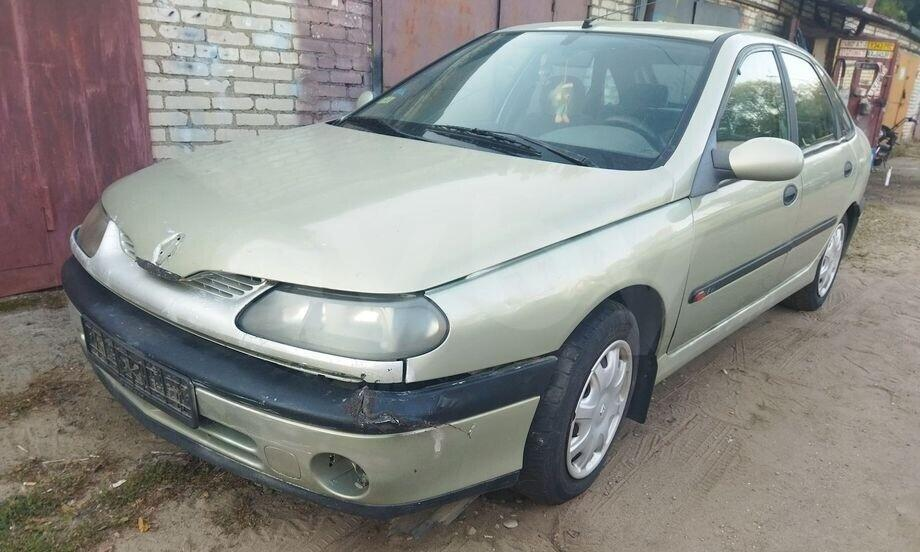Laguna_1998-2001: (61, 21, 876, 506)
